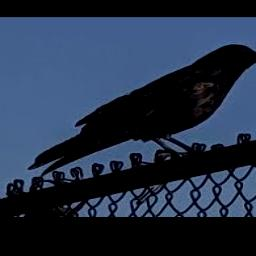Crow: (28, 44, 256, 177)
